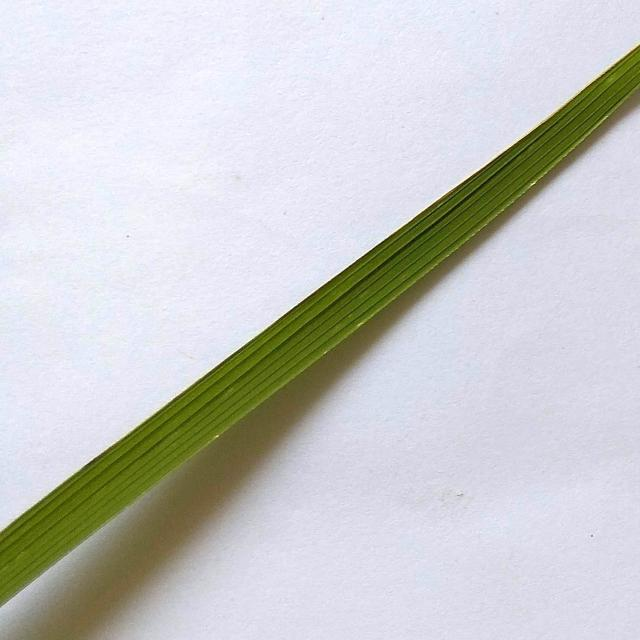Rice_Healthy: (0, 45, 640, 606)
